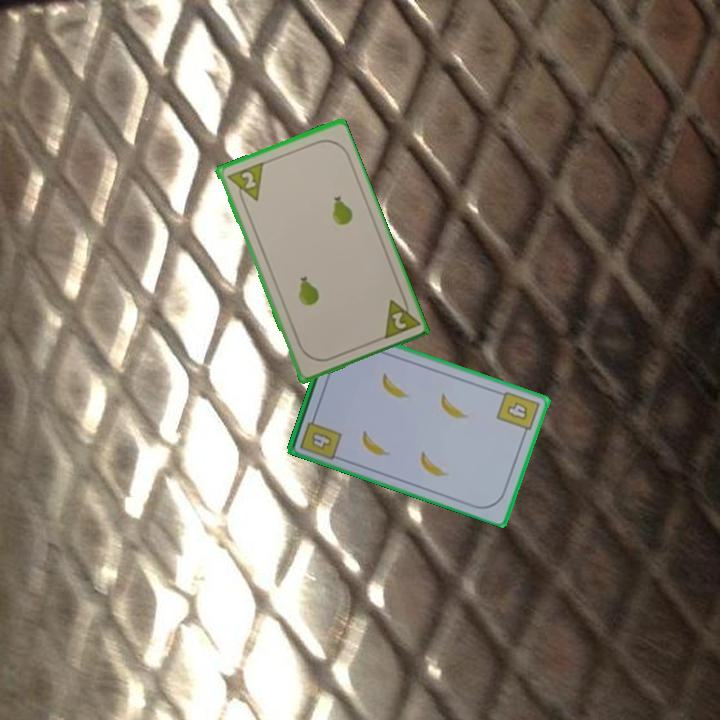2p: (222, 158, 266, 209), (378, 290, 421, 342)
4b: (493, 387, 542, 439), (297, 410, 344, 463)
